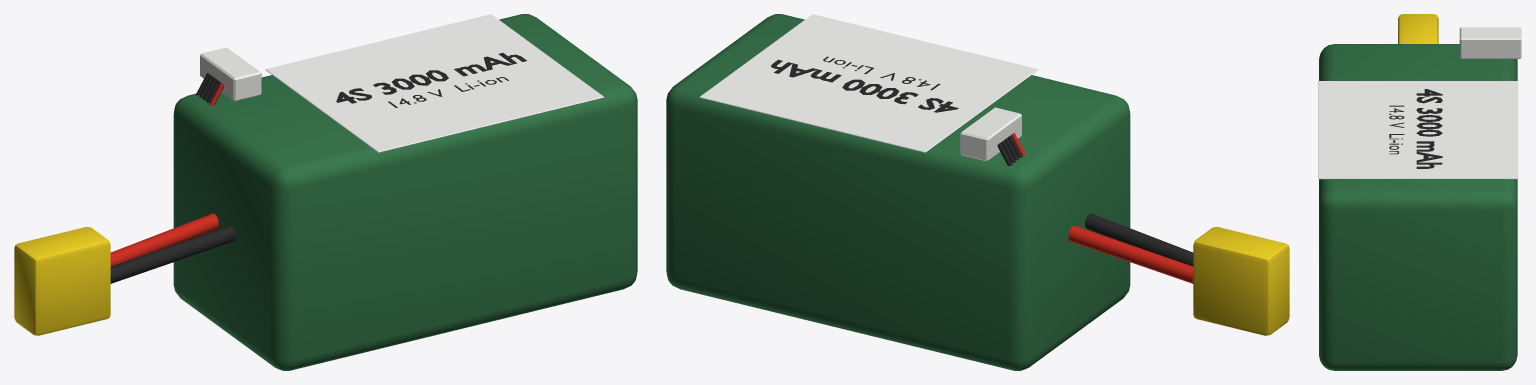
File: bateria_b4s3000.glb
3 renders of one model, left to right at view 1: azimuth 30°, elevation 25°; view 2: azimuth 150°, elevation 25°; view 3: azimuth 270°, elevation 25°, orthographic. The views are drawn at different scales.
Visible parts, largest first — view 1: bateria_cuerpo, bateria_etiqueta, bateria_xt60, bateria_cables, bateria_balanceo, bateria_texto; view 2: bateria_cuerpo, bateria_etiqueta, bateria_xt60, bateria_cables, bateria_balanceo, bateria_texto; view 3: bateria_cuerpo, bateria_etiqueta, bateria_balanceo, bateria_texto, bateria_xt60.
Boxes of the visible parts, x1,y1,x2,y2 form: bateria_cuerpo: (173, 14, 637, 370); bateria_etiqueta: (265, 14, 604, 152); bateria_xt60: (14, 227, 110, 335); bateria_cables: (110, 213, 235, 283); bateria_balanceo: (196, 47, 261, 105); bateria_texto: (336, 53, 526, 107); bateria_cuerpo: (666, 14, 1130, 370); bateria_etiqueta: (699, 14, 1038, 152); bateria_xt60: (1193, 227, 1289, 335); bateria_cables: (1068, 213, 1193, 283); bateria_balanceo: (960, 107, 1025, 165); bateria_texto: (771, 56, 958, 112); bateria_cuerpo: (1319, 44, 1517, 370); bateria_etiqueta: (1318, 81, 1518, 179); bateria_balanceo: (1459, 27, 1521, 58); bateria_texto: (1389, 89, 1442, 168); bateria_xt60: (1398, 14, 1438, 43).
Bounding box in the file's own units: 0.116 × 0.046 × 0.041.
